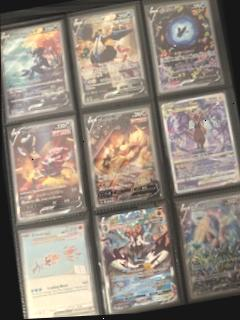card: (93, 201, 183, 315), (2, 113, 89, 228), (67, 0, 153, 114), (82, 101, 166, 215), (156, 88, 240, 200), (14, 218, 101, 319), (142, 0, 228, 100), (0, 14, 76, 127), (171, 188, 240, 304)
